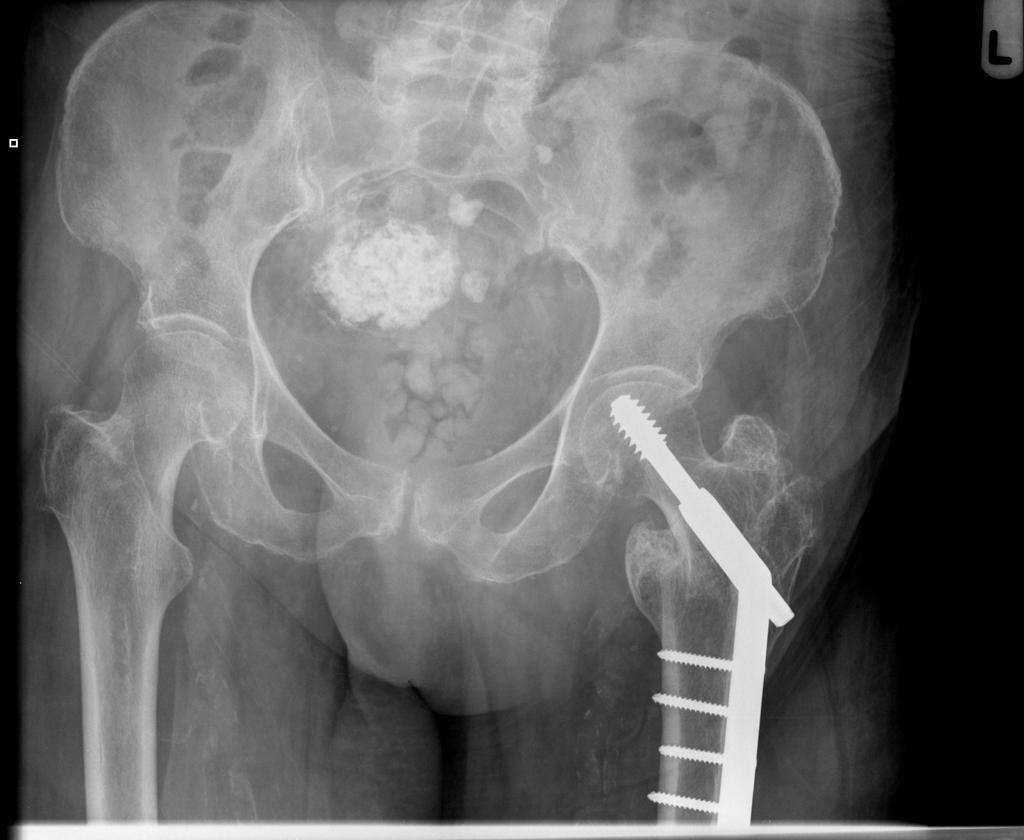Uterine fibroids: (316, 213, 460, 331)
